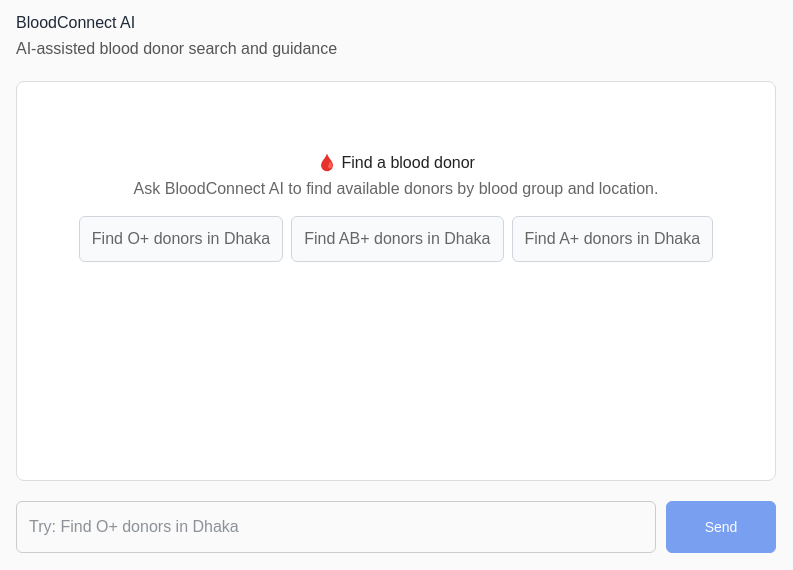
Test: BloodConnect AI Chat › shows the success state after sending
Step 1. Type "Find O+ donors in Dhaka" into the field named "Ask BloodConnect AI" → (336, 527), box [16,501,656,553]
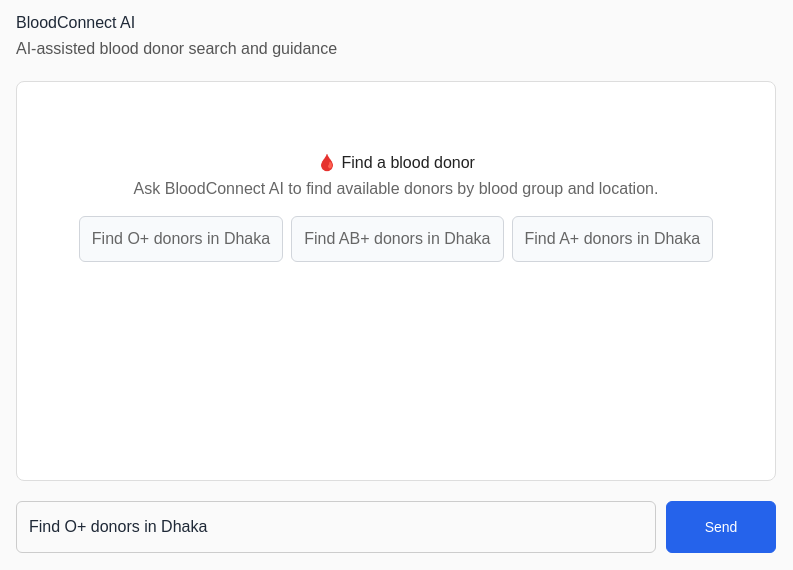
Step 2. Click the button with aria-label "Send message" → (721, 527), box [666,501,776,553]
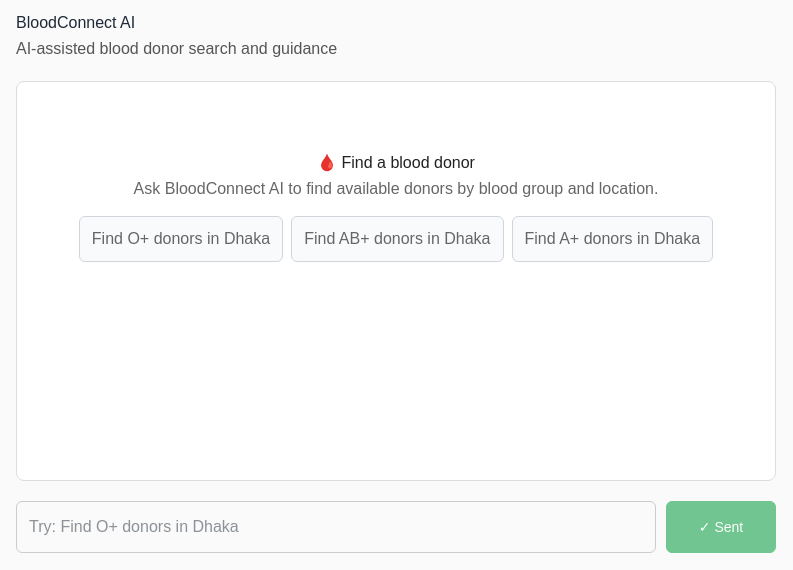
Now the button "✓ Sent" is shown, box [666,501,776,553]
